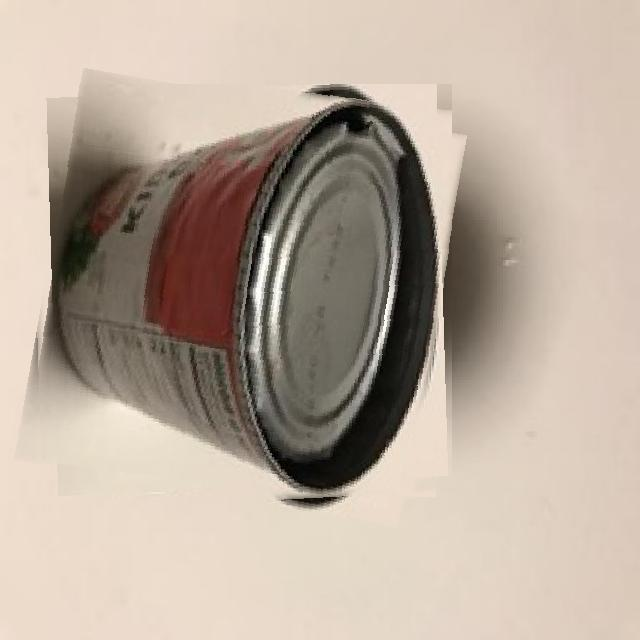recyclable: (30, 84, 452, 512)
